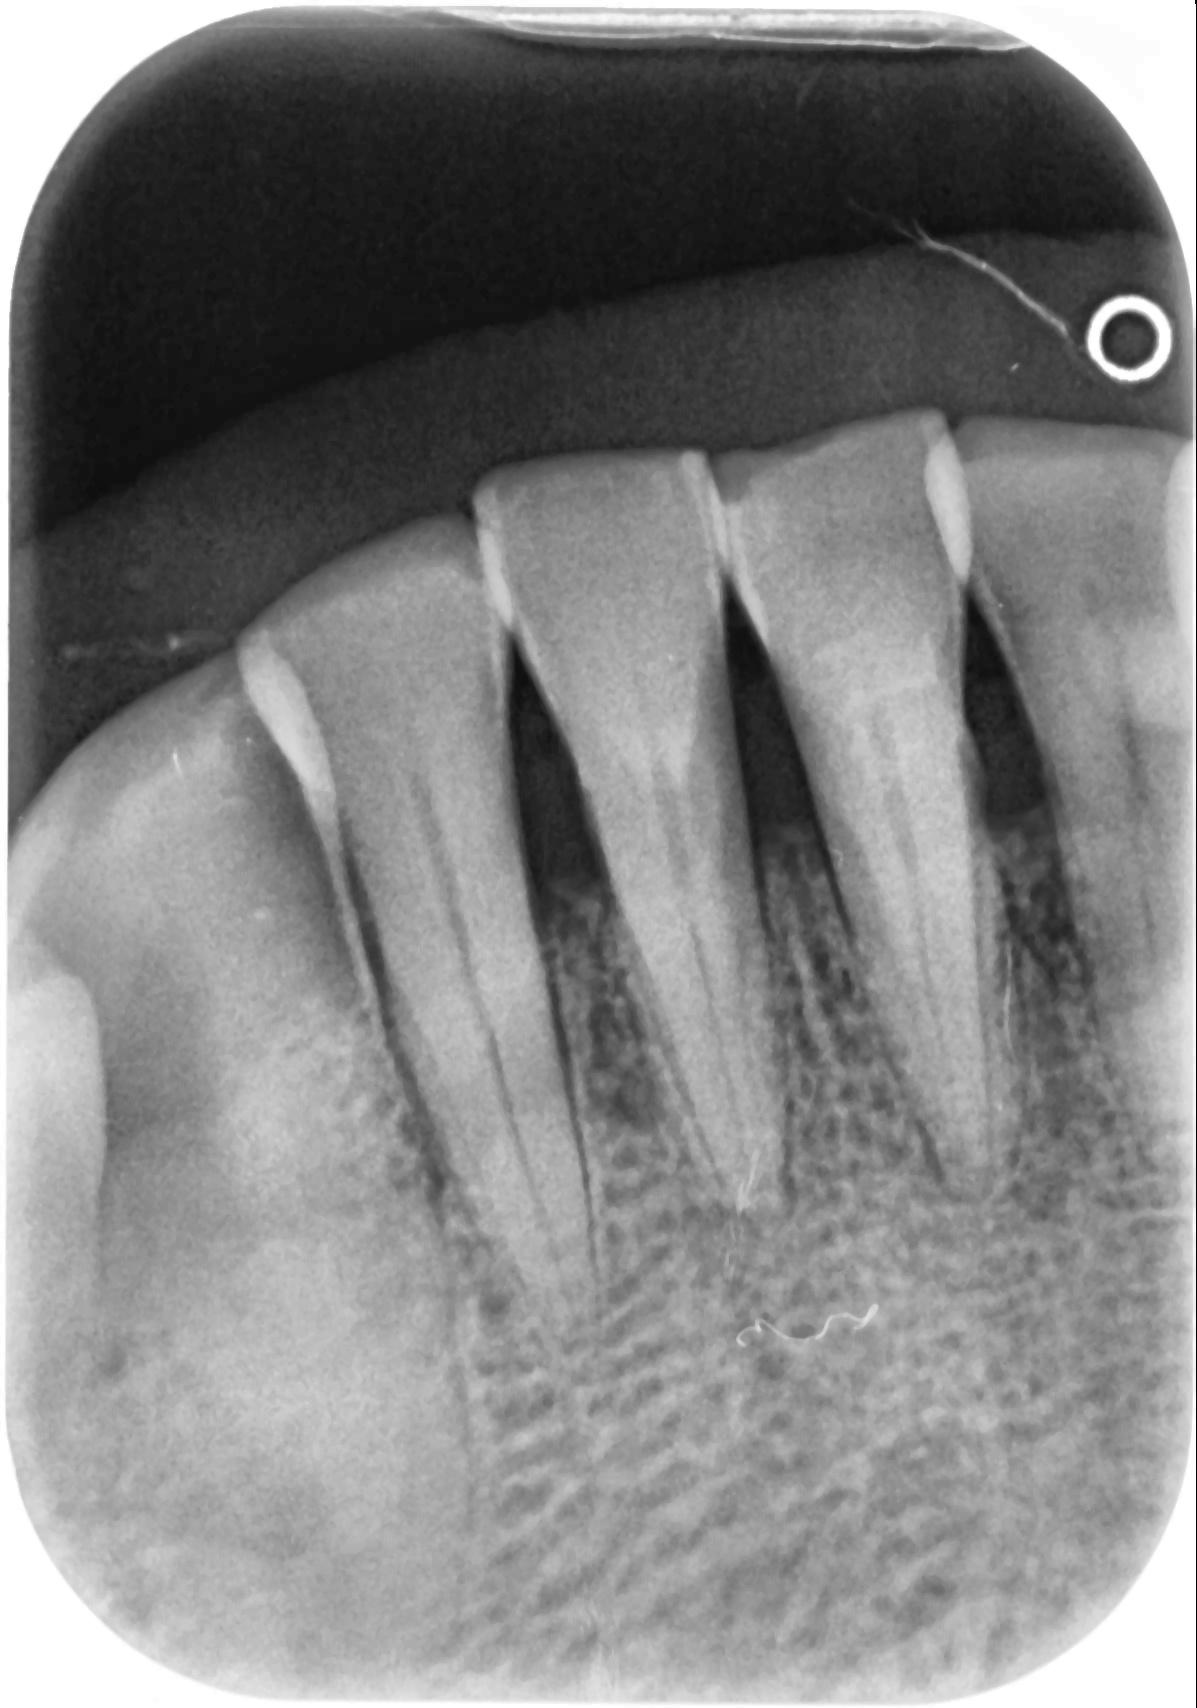Individual Tooth: (13, 653, 469, 1679), (235, 505, 606, 1351), (473, 440, 782, 1210), (717, 419, 1004, 1204), (926, 409, 1194, 1176), (8, 875, 106, 1478)
